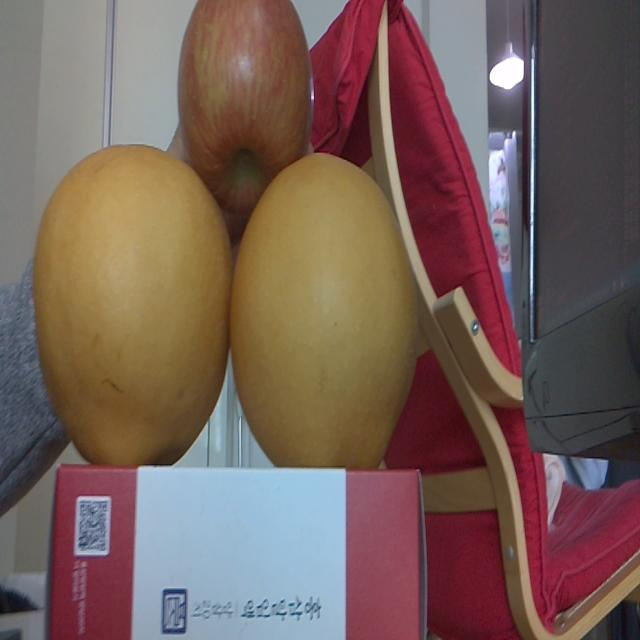apple: (175, 0, 310, 221)
pear: (31, 146, 234, 470), (238, 150, 420, 467)
